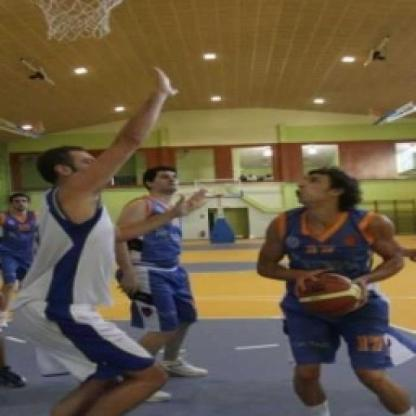basketball: (300, 270, 364, 318)
